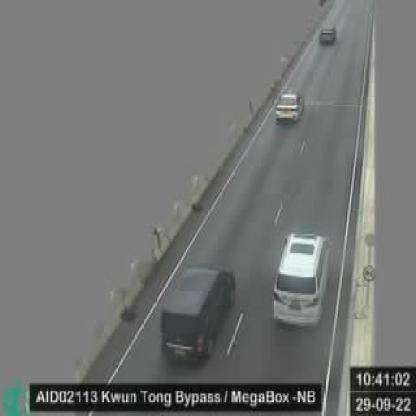Car: (156, 257, 239, 364), (266, 224, 329, 329), (266, 81, 310, 130), (317, 17, 339, 47)
